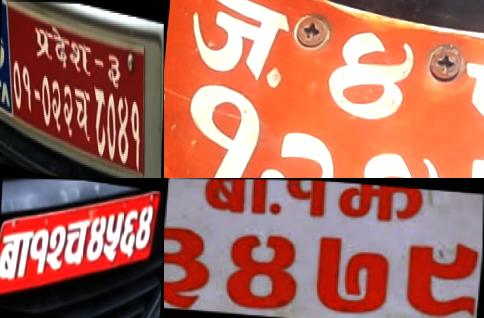0: (105, 84, 119, 164), (10, 57, 23, 115), (39, 69, 52, 127)
1: (170, 79, 265, 178), (280, 179, 331, 220), (129, 94, 143, 173), (29, 227, 48, 279), (20, 59, 34, 113)
2: (253, 113, 336, 178), (45, 220, 67, 272), (50, 72, 64, 134), (62, 74, 75, 140)
3: (164, 222, 218, 310), (107, 50, 122, 89)
4: (320, 17, 426, 129), (217, 225, 307, 318), (345, 131, 450, 178), (116, 89, 132, 168), (86, 211, 107, 265), (135, 201, 155, 253)
5: (104, 208, 123, 264)
6: (119, 202, 140, 261)
7: (306, 229, 399, 318)
8: (91, 81, 108, 159)
9: (397, 235, 482, 318)
ba: (196, 178, 286, 225), (0, 224, 33, 284)
cha: (72, 75, 95, 146), (64, 213, 91, 270)
ja: (184, 0, 301, 89)
jha: (332, 180, 427, 230)
pa: (450, 50, 484, 154)
